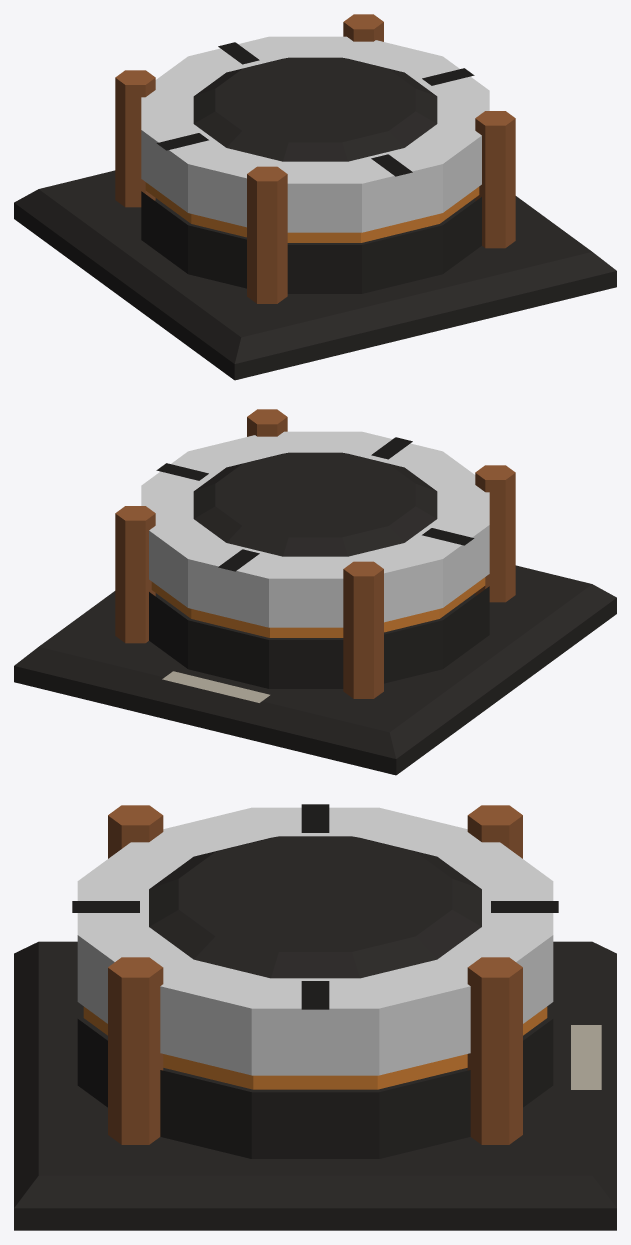
File: str_t1_estore.fafa6197.raw.glb
3 views of the same model, one above another, from view 1: azimuth 30°, elevation 25°; view 2: azimuth 150°, elevation 25°; view 3: azimuth 270°, elevation 25° (orthographic). The views are drawn at different scales.
Parts seen in each view (by area): view 1: lod0; view 2: lod0; view 3: lod0.
Part boxes in pixels (x1=…): lod0: x1=14, y1=14, x2=616, y2=380; lod0: x1=14, y1=409, x2=616, y2=775; lod0: x1=14, y1=804, x2=616, y2=1230.
Size of what is drawn, in the model's own units: 1.96 by 0.76 by 1.96.
